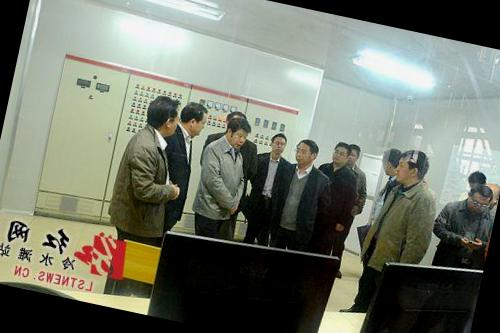no_helmet: (140, 91, 184, 141), (399, 145, 434, 186), (176, 98, 210, 138), (221, 111, 254, 149), (378, 142, 409, 181), (461, 184, 496, 218), (291, 135, 323, 170), (267, 127, 292, 158), (328, 138, 353, 166), (465, 168, 490, 195), (344, 141, 364, 168)
